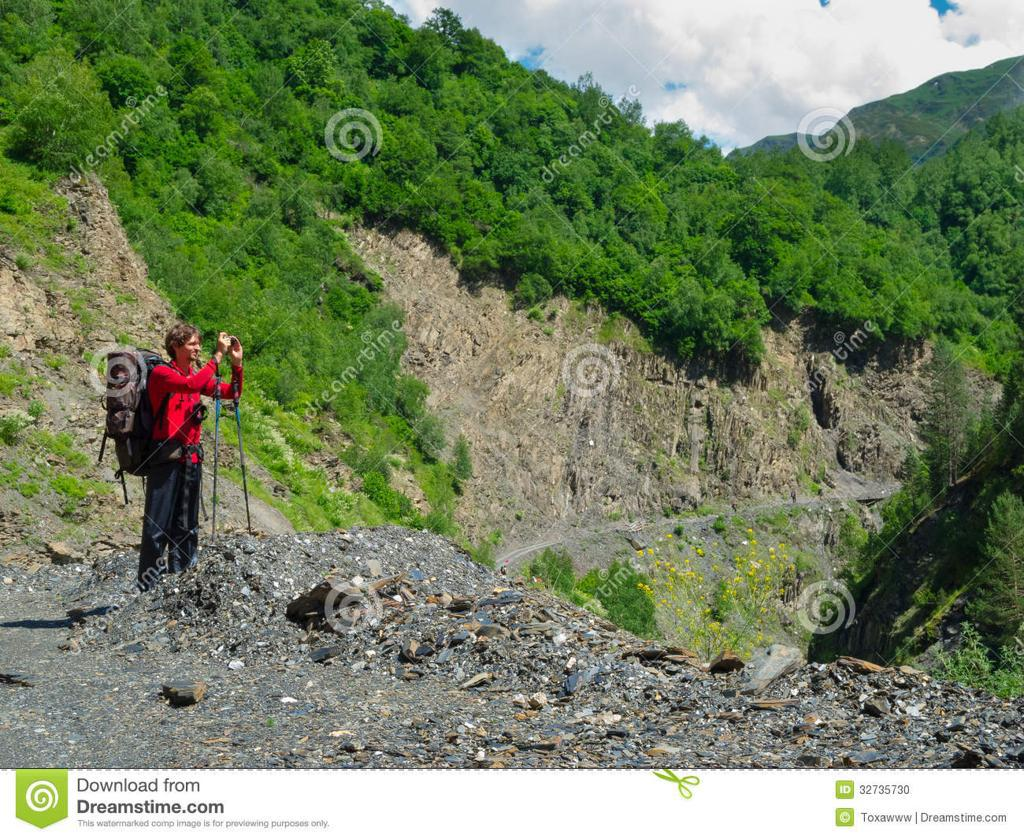face: (181, 332, 201, 360)
